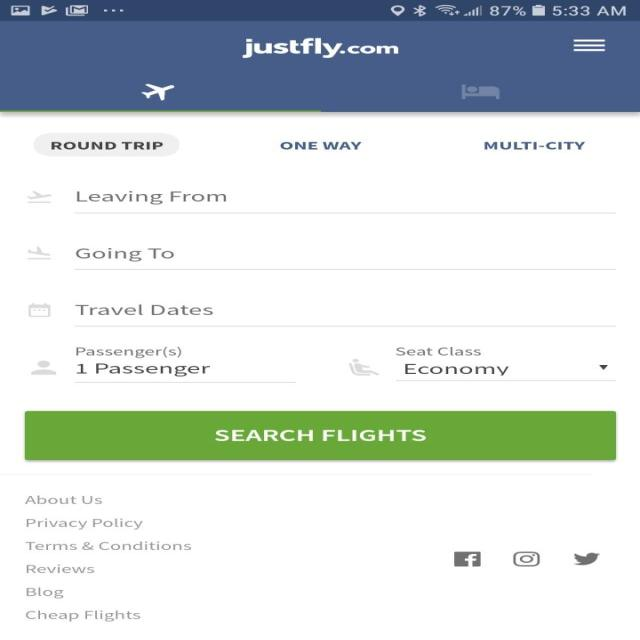Icon: (570, 38, 606, 52), (452, 550, 479, 566), (29, 359, 56, 374), (512, 550, 538, 565), (572, 552, 600, 564), (26, 302, 49, 316), (597, 364, 608, 368)
Image: (459, 82, 502, 100), (140, 82, 174, 100), (346, 357, 378, 376), (24, 246, 52, 259), (24, 190, 52, 203)
Text: (240, 36, 399, 58), (75, 189, 226, 204), (72, 302, 210, 316), (76, 363, 210, 377), (23, 540, 192, 550), (74, 343, 180, 358), (402, 362, 508, 376), (23, 609, 140, 621), (74, 247, 174, 261), (23, 518, 142, 528), (482, 140, 585, 150), (278, 140, 362, 150), (22, 494, 102, 504), (23, 563, 95, 574), (394, 346, 480, 355), (25, 586, 63, 598)
TextButton: (24, 410, 614, 458), (34, 132, 177, 155)
